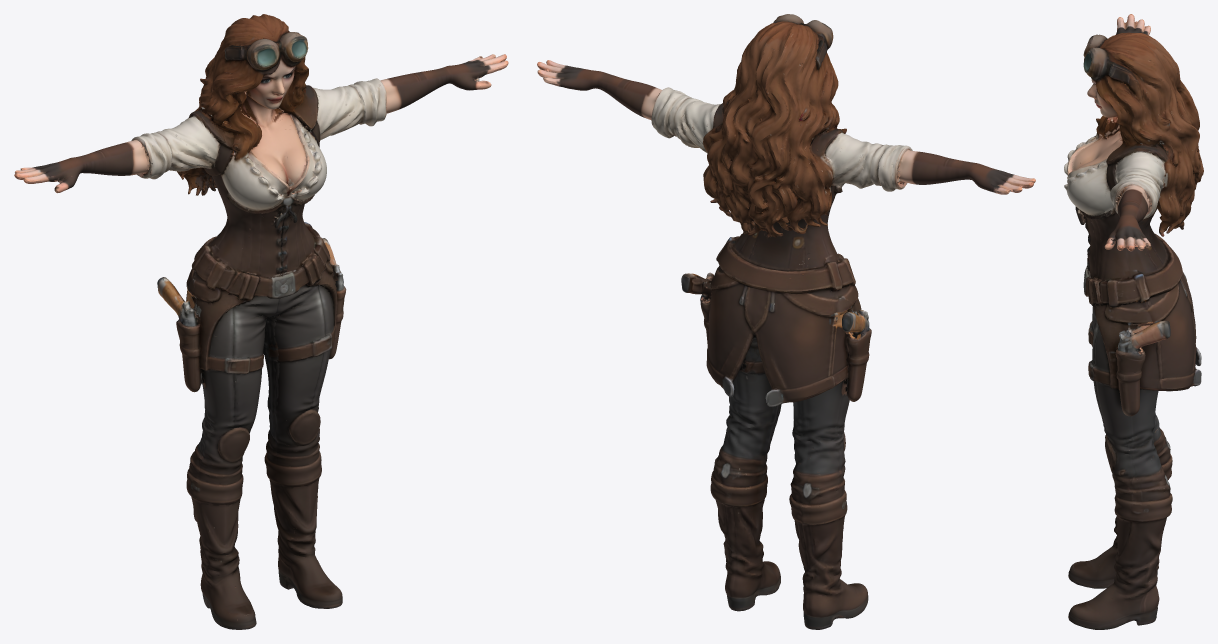
File: SteamPunkSally.fbx
3 renders of one model, left to right at view 1: azimuth 30°, elevation 25°; view 2: azimuth 150°, elevation 25°; view 3: azimuth 270°, elevation 25°, orthographic. The views are drawn at different scales.
Parts seen in each view (by area): view 1: output; view 2: output; view 3: output.
Part boxes in pixels (x1,y1,x2,y2): output: (14,14,508,629); output: (537,14,1035,629); output: (1064,14,1203,629).
Bounding box in the file's own units: 170 × 192 × 42.94.
1 material, 1 textured.
